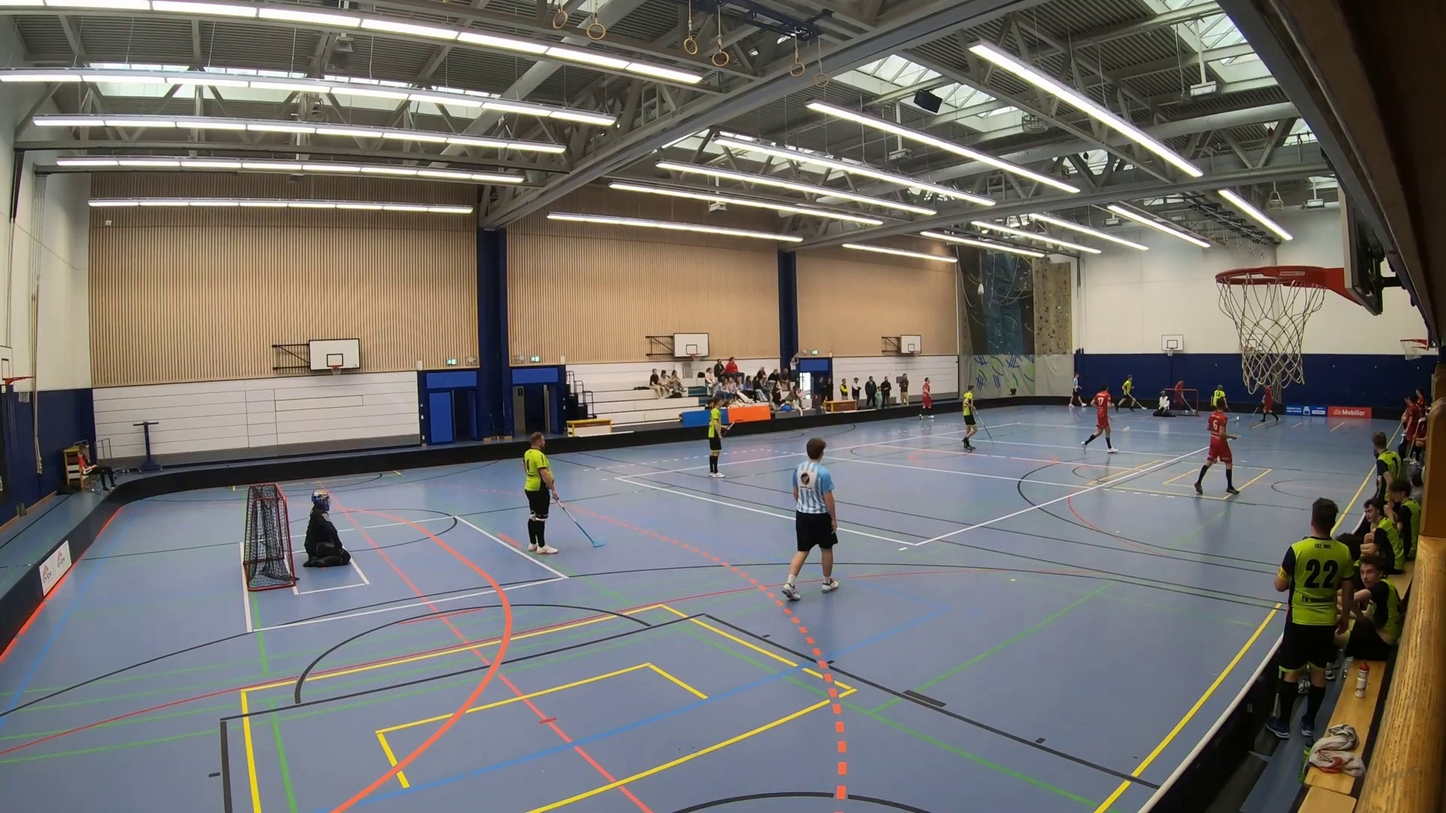Schiri: (770, 433, 860, 606), (1067, 366, 1088, 408)
ball: (1193, 410, 1196, 414)
goalkeeper: (289, 479, 364, 584), (1153, 388, 1177, 421)
player: (498, 424, 617, 568), (695, 388, 747, 487), (1193, 402, 1245, 500), (1081, 384, 1132, 455), (950, 380, 998, 452), (1247, 379, 1285, 425), (1209, 379, 1241, 422), (1116, 372, 1148, 413), (917, 375, 940, 422), (1172, 377, 1200, 415)
